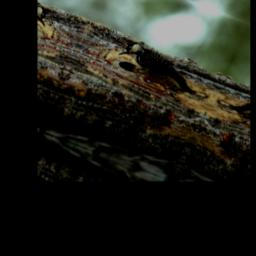Woodpecker: (107, 34, 216, 105)
